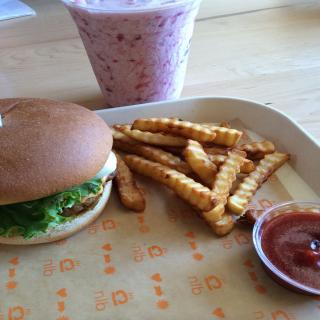French fries: (104, 113, 294, 241)
Hamburger: (0, 98, 118, 245)
